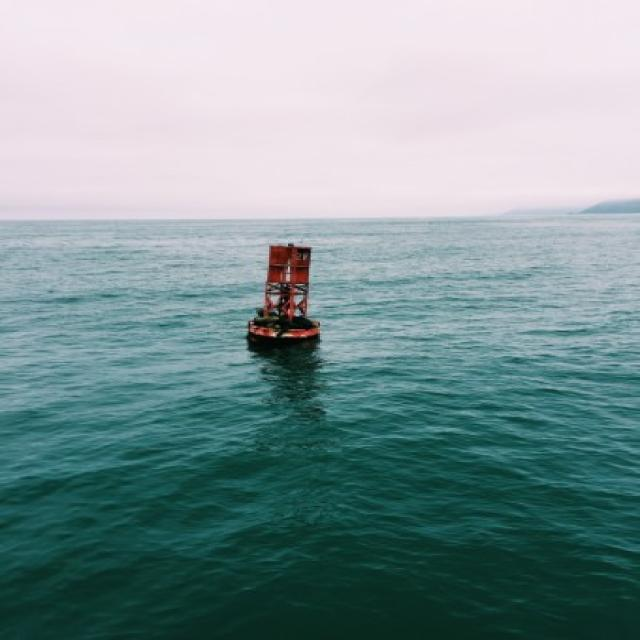buoy: (237, 229, 346, 350)
